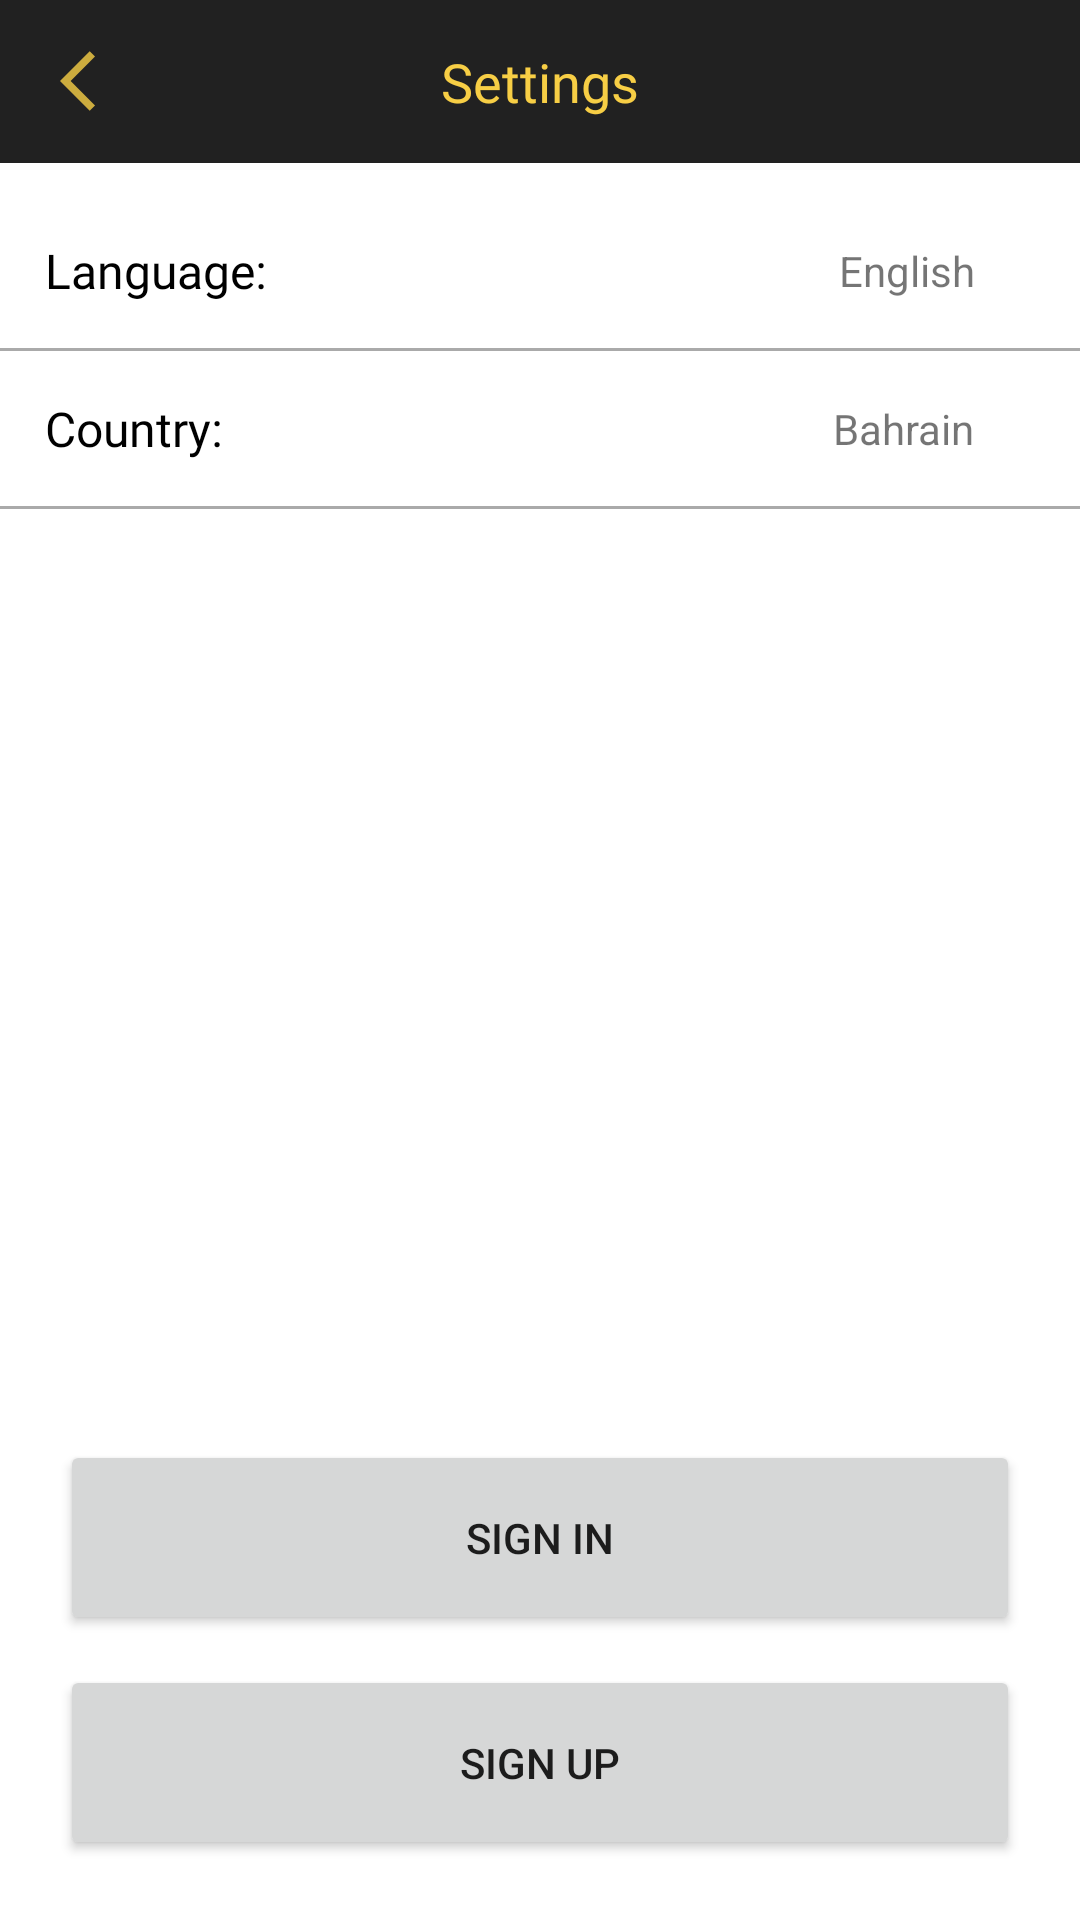

Icons on this 1080 × 1920 Android screen, each with its box as (x1, y1, x2, y2):
back icon: (60, 51, 95, 111)
